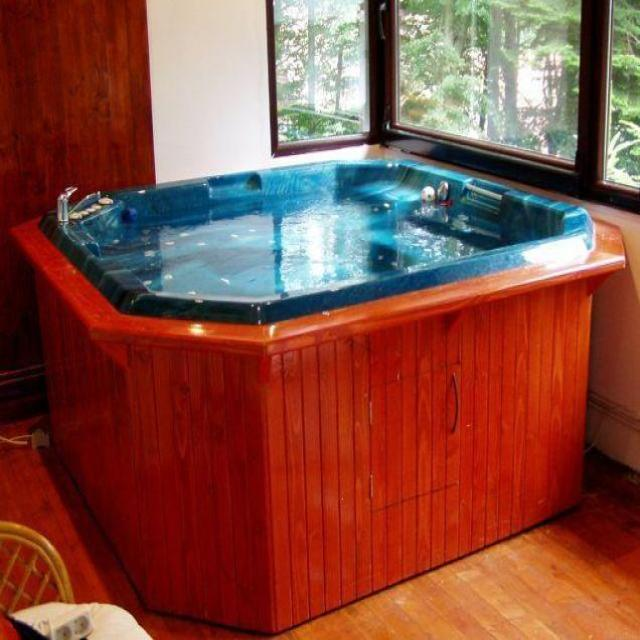cupboard: (9, 156, 626, 635)
door: (0, 0, 155, 411)
windows: (385, 0, 584, 172), (265, 0, 373, 156), (595, 0, 639, 209)
